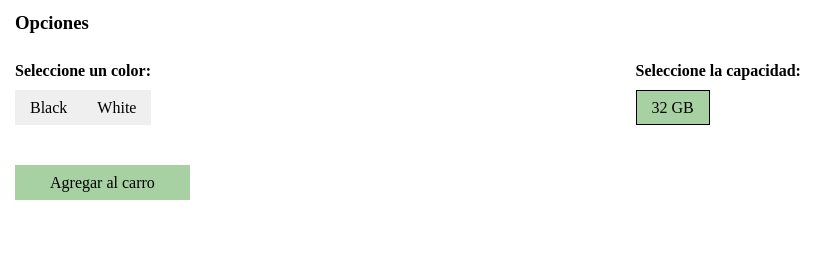
Test: ItemActions › Add to cart - Options not clicked
Click the button "Agregar al carro" at (102, 183), box [15,165,190,200]
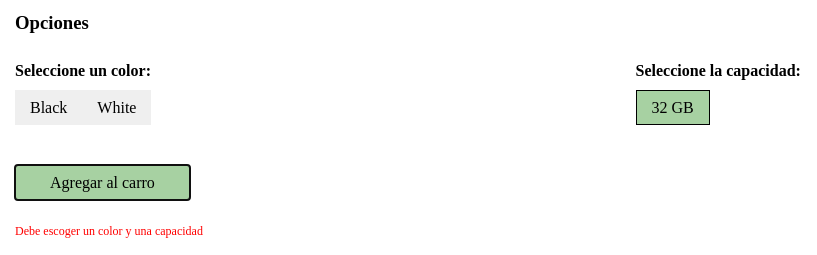
Result: the text "Debe escoger un color y una capacidad" is shown at [15,224,203,238]
